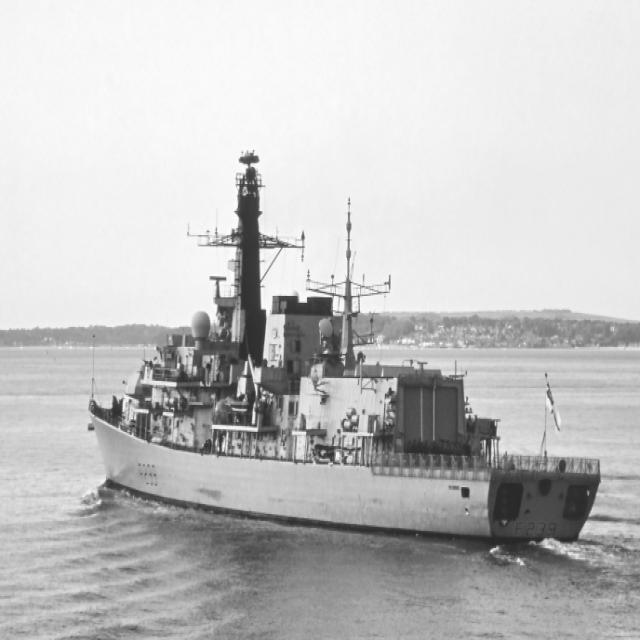Fragata: (86, 141, 604, 558)
